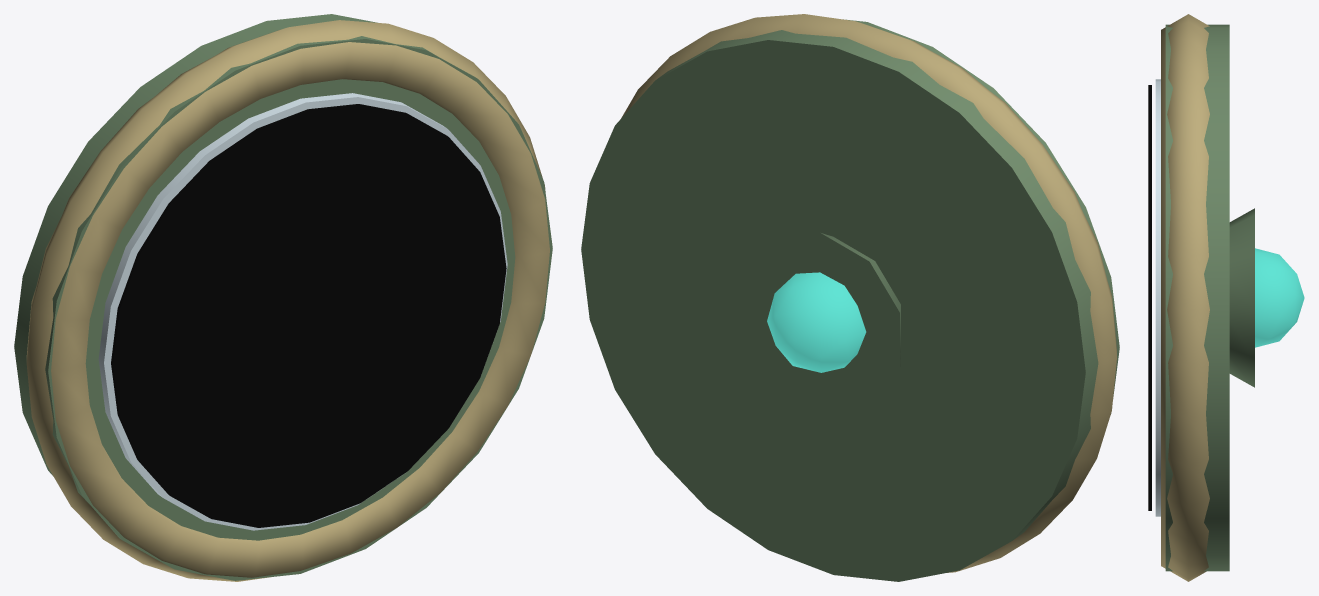
Rendered from BO_SM_EnemyPart_FoxWitchMirror_v001.glb.
The picture shows the model from 3 angles, left to right: view 1: azimuth 30°, elevation 25°; view 2: azimuth 150°, elevation 25°; view 3: azimuth 270°, elevation 25°; orthographic projection. The views are drawn at different scales.
Parts seen in each view (by area): view 1: glowfx_005, body_002, body_000, body_001; view 2: body_000, body_002, body_003, glow_004; view 3: body_002, body_000, body_003, glow_004, body_001, glowfx_005.
Boxes of the visible parts, left/top/right/bottom form: glowfx_005: left=111, top=104, right=506, bottom=527; body_002: left=26, top=20, right=549, bottom=581; body_000: left=14, top=14, right=552, bottom=580; body_001: left=98, top=93, right=507, bottom=530; body_000: left=581, top=19, right=1119, bottom=581; body_002: left=621, top=14, right=1116, bottom=572; body_003: left=740, top=232, right=900, bottom=408; glow_004: left=767, top=272, right=866, bottom=372; body_002: left=1161, top=14, right=1209, bottom=581; body_000: left=1165, top=24, right=1229, bottom=571; body_003: left=1229, top=208, right=1254, bottom=387; glow_004: left=1255, top=248, right=1304, bottom=347; body_001: left=1155, top=79, right=1160, bottom=516; glowfx_005: left=1148, top=85, right=1151, bottom=510.
Size of the model in its own units: 0.622 by 0.622 by 0.171.
